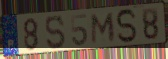5: (70, 13, 89, 47)
8: (141, 7, 160, 41), (23, 17, 41, 52)
M: (91, 12, 116, 46)
S: (115, 8, 140, 45), (44, 14, 67, 50)
